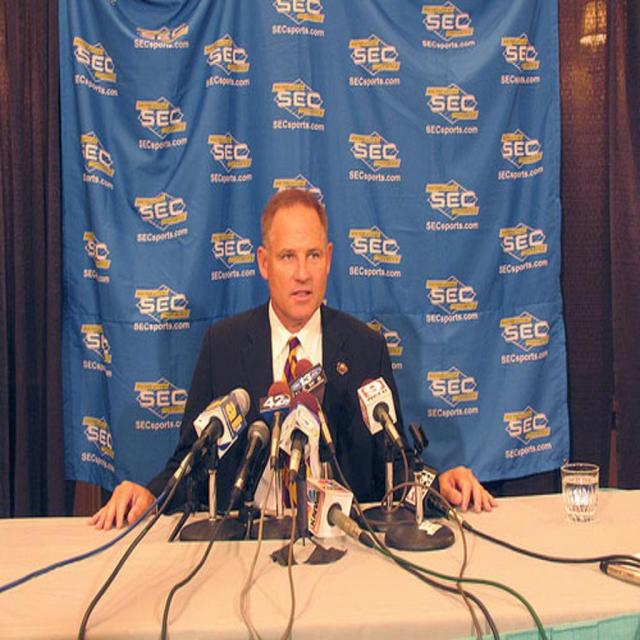nomask: (268, 202, 326, 318)
